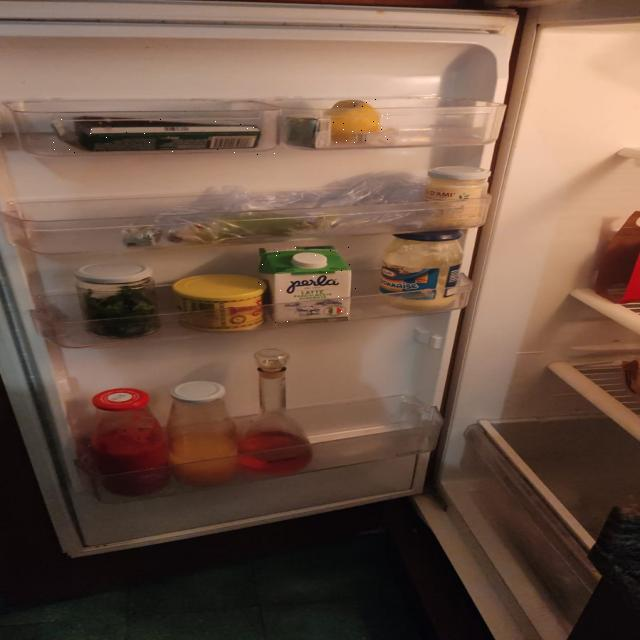butter: (51, 118, 281, 156)
lemon: (329, 98, 391, 144)
milk: (258, 246, 356, 324)
